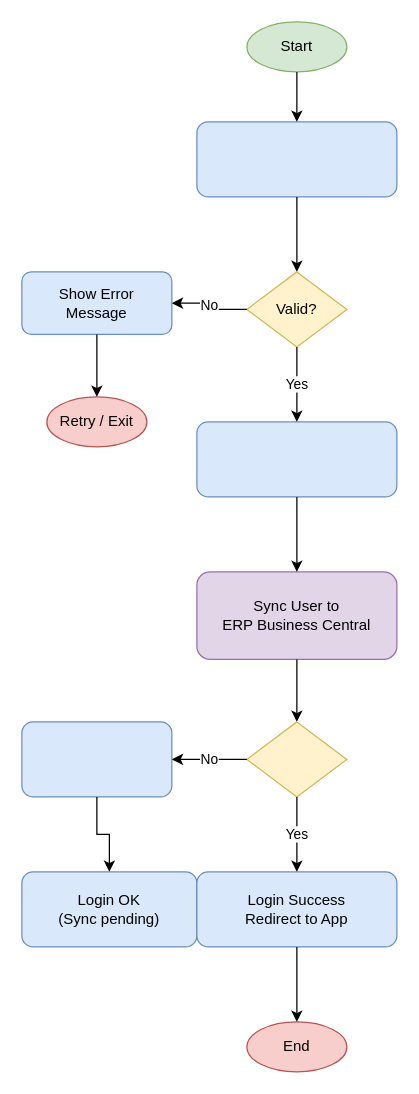
Some shapes in this 419 by 1094 pixel diagram are drawn without their labels. The box of each missing label's shape, as (x1, y1, x2, y2) in pixels:
Enter Email & Password: (196, 121, 397, 197)
Generate JWT Token: (196, 421, 397, 497)
Log Error Queue Retry: (21, 721, 172, 797)
Sync OK?: (246, 721, 347, 797)
